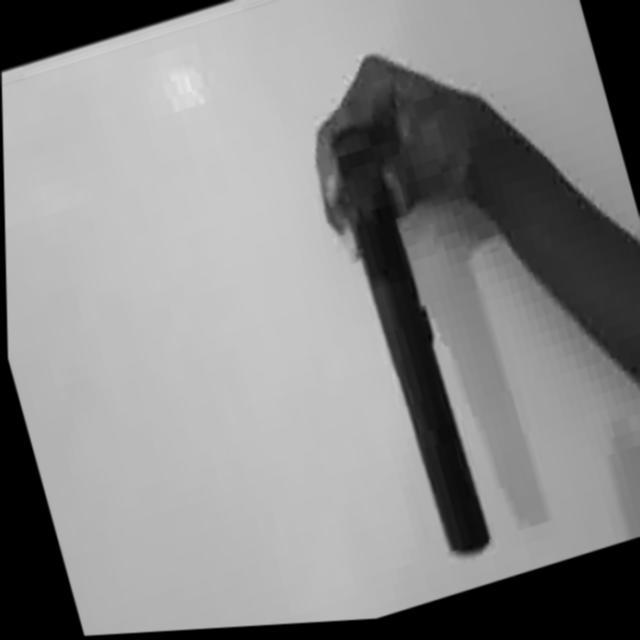weapon: (302, 101, 499, 578)
